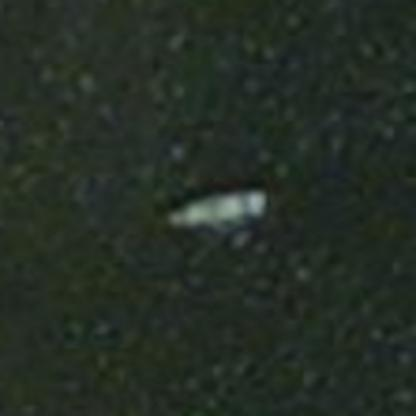ship: (158, 181, 278, 236)
